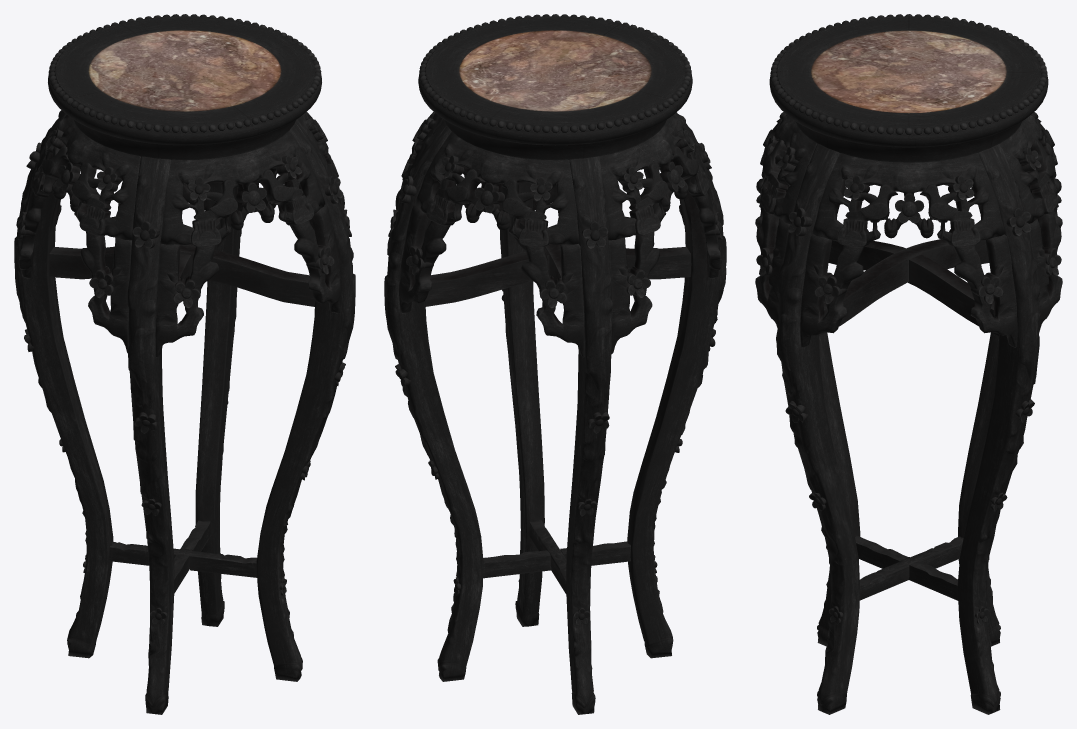
Rendered from SM_Table01E.fbx.
3 views of the same model, side by side, from view 1: azimuth 30°, elevation 25°; view 2: azimuth 150°, elevation 25°; view 3: azimuth 270°, elevation 25° (orthographic).
Visible parts, largest first — view 1: SM_Table01E; view 2: SM_Table01E; view 3: SM_Table01E.
Boxes of the visible parts, x1,y1,x2,y2 form: SM_Table01E: (14,14,355,714); SM_Table01E: (384,14,726,714); SM_Table01E: (755,14,1062,714).
Bounding box in the file's own units: 41.52 × 41.52 × 90.12.
